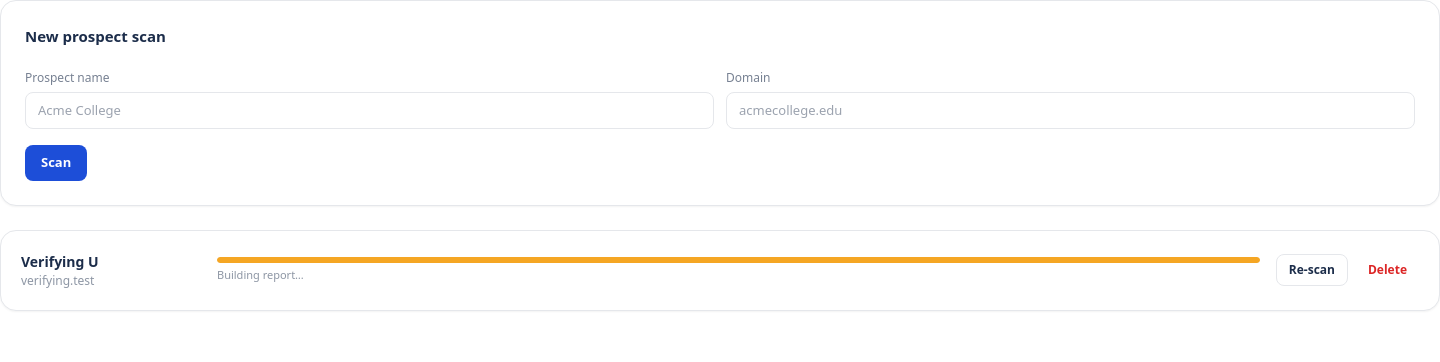
Test: ProspectDashboard — PR3 progress + clickable cards › popup blocked (window.open null) → notice with the link, no crash
Click the link "Verifying U verifying.test Building report… Re-scan Delete" at {"x": 60, "y": 261}, box [21,252,1419,288]
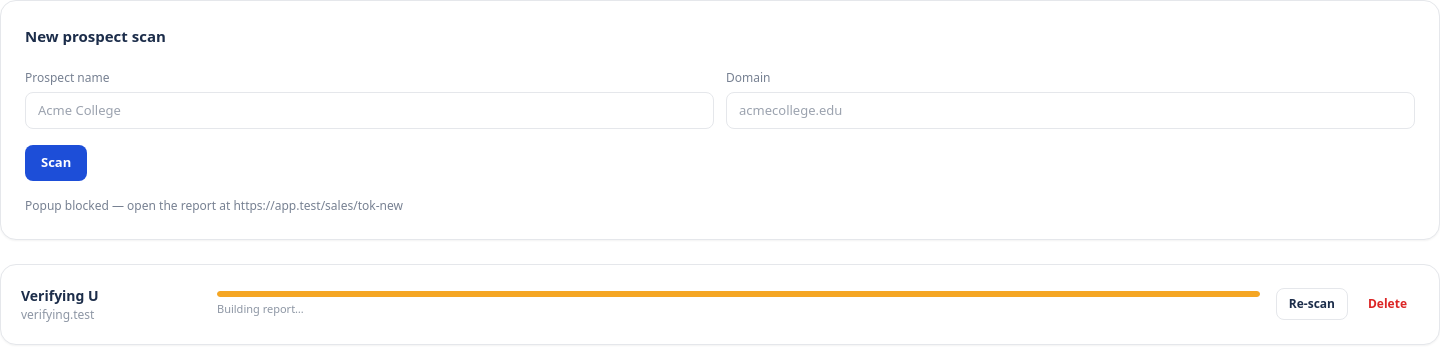
Expected: the text "Popup blocked" shows "https://app.test/sales/tok-new", [25,196,403,214]
